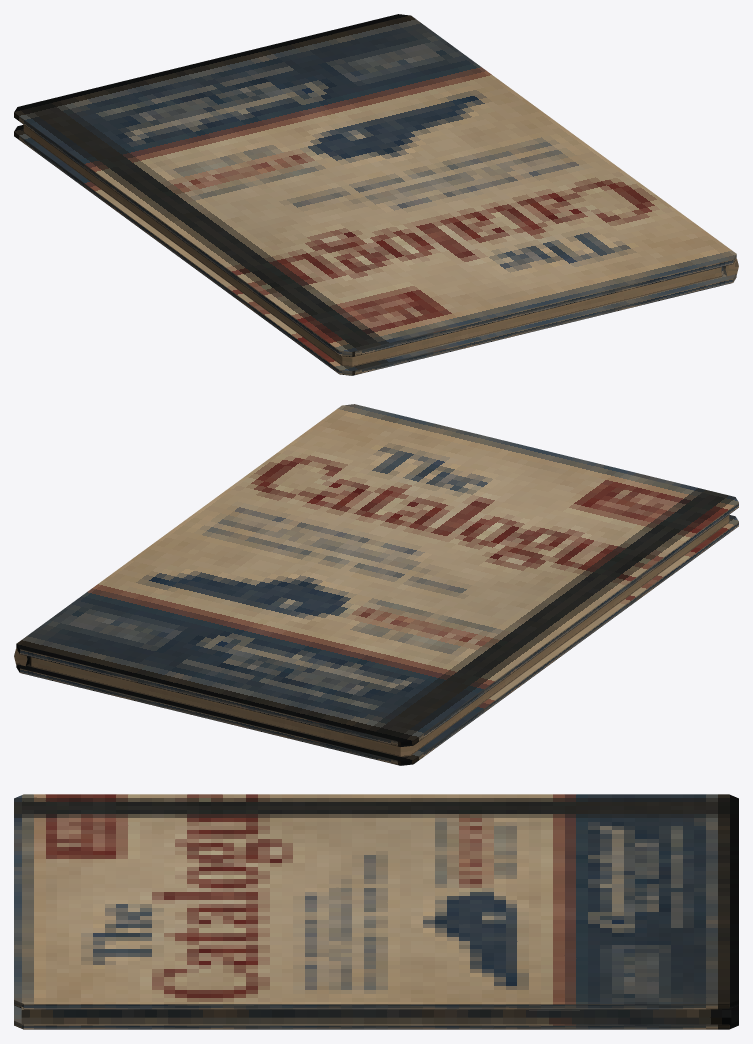
The model's file is ShopCatalogue.fbx.
3 renders of one model, top to bottom at view 1: azimuth 30°, elevation 25°; view 2: azimuth 150°, elevation 25°; view 3: azimuth 270°, elevation 25°, orthographic. The views are drawn at different scales.
Parts seen in each view (by area): view 1: ShopCatalogue; view 2: ShopCatalogue; view 3: ShopCatalogue.
Part boxes in pixels (left/top/right/bottom): ShopCatalogue: left=14, top=14, right=738, bottom=375; ShopCatalogue: left=14, top=404, right=738, bottom=765; ShopCatalogue: left=14, top=794, right=738, bottom=1029.
Size of the model in its own units: 37.39 by 2.13 by 54.41.
